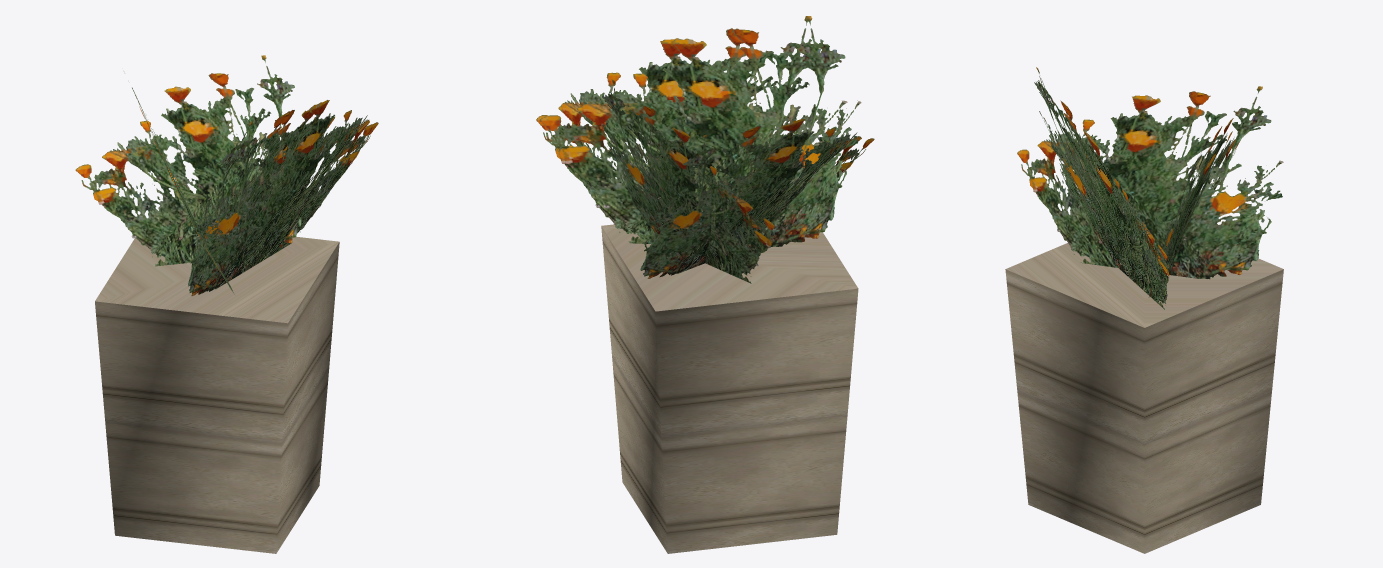
The model's file is thm_nboo_imprv_flower_urn_s01_l3.fbx.
The picture shows the model from 3 angles, left to right: view 1: azimuth 30°, elevation 25°; view 2: azimuth 150°, elevation 25°; view 3: azimuth 270°, elevation 25°; orthographic projection. The views are drawn at different scales.
Parts seen in each view (by area): view 1: mesh_node; view 2: mesh_node; view 3: mesh_node.
Boxes of the visible parts, x1=… form: mesh_node: x1=75, y1=55, x2=378, y2=553; mesh_node: x1=536, y1=16, x2=874, y2=553; mesh_node: x1=1005, y1=67, x2=1283, y2=553.
Bounding box in the file's own units: 1.03 × 1.19 × 0.979.
